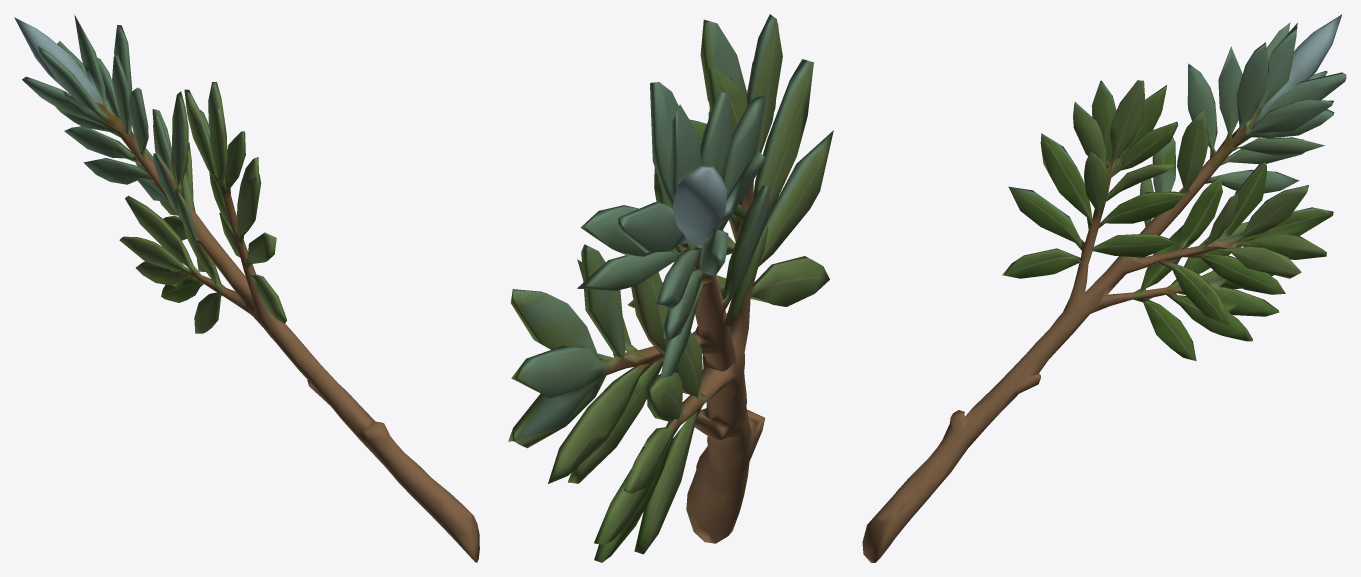
File: 96045584-5714-4980-8cbc-febe923143ba_model_url.glb
3 renders of one model, left to right at view 1: azimuth 30°, elevation 25°; view 2: azimuth 150°, elevation 25°; view 3: azimuth 270°, elevation 25°, orthographic. The views are drawn at different scales.
Visible parts, largest first — view 1: tripo_node_96045584-5714-4980-8cbc-febe923143ba; view 2: tripo_node_96045584-5714-4980-8cbc-febe923143ba; view 3: tripo_node_96045584-5714-4980-8cbc-febe923143ba.
Boxes of the visible parts, x1,y1,x2,y2 form: tripo_node_96045584-5714-4980-8cbc-febe923143ba: [14, 14, 479, 562]; tripo_node_96045584-5714-4980-8cbc-febe923143ba: [508, 14, 833, 562]; tripo_node_96045584-5714-4980-8cbc-febe923143ba: [862, 14, 1346, 562].
Size of the model in its own units: 0.5717 by 1 by 0.9842.
1 material, 1 textured.
